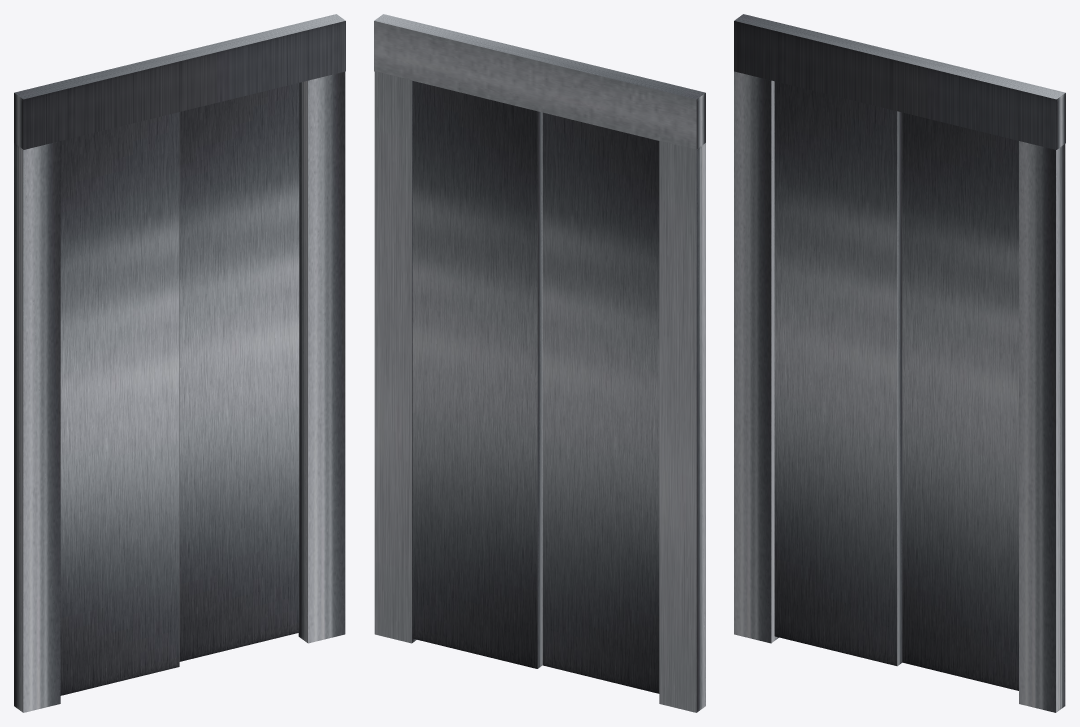
The model's file is ascensor.fbx.
3 views of the same model, side by side, from view 1: azimuth 30°, elevation 25°; view 2: azimuth 150°, elevation 25°; view 3: azimuth 330°, elevation 25° (orthographic).
Visible parts, largest first — view 1: Cube.004; view 2: Cube.004; view 3: Cube.004.
Boxes of the visible parts, bbox=[...] form: Cube.004: bbox=[14, 14, 345, 712]; Cube.004: bbox=[374, 14, 705, 712]; Cube.004: bbox=[734, 14, 1065, 712].
Size of the model in its own units: 100 by 182 by 5.
